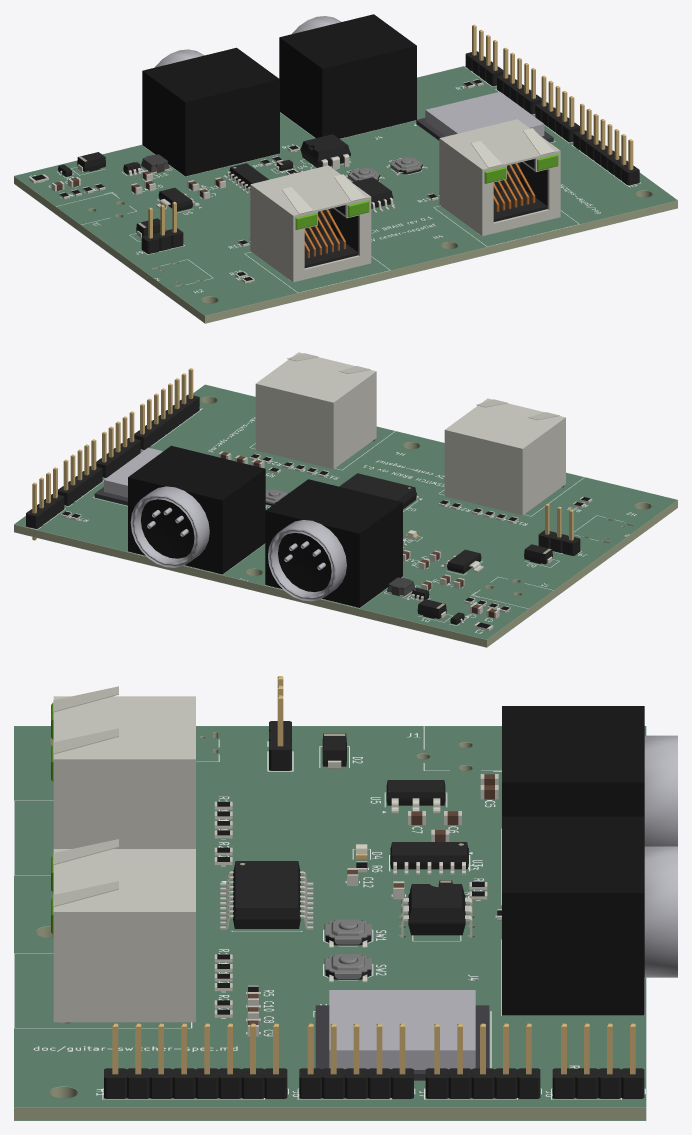
The model's file is gswitch-brain.glb.
3 views of the same model, one above another, from view 1: azimuth 30°, elevation 25°; view 2: azimuth 150°, elevation 25°; view 3: azimuth 270°, elevation 25° (orthographic). The views are drawn at different scales.
Visible parts, largest first — view 1: =>[0:1:1:57], =>[0:1:1:55], DIN5_SDS50J (Shell) (×2), =>[0:1:1:13] (×2), =>[0:1:1:45] (×2), ESP32_WROOM1U (Shell), =>[0:1:1:47], =>[0:1:1:54], =>[0:1:1:23], =>[0:1:1:43], =>[0:1:1:49], =>[0:1:1:19] (+5 smaller); view 2: =>[0:1:1:57], =>[0:1:1:55], =>[0:1:1:13] (×2), DIN5_SDS50J (Shell) (×2), DIN5_SDS50J (Face) (×4), =>[0:1:1:45] (×2), =>[0:1:1:47], =>[0:1:1:54], =>[0:1:1:43], =>[0:1:1:19], =>[0:1:1:49], ESP32_WROOM1U (Shell) (+3 smaller); view 3: =>[0:1:1:57], =>[0:1:1:55], =>[0:1:1:13] (×2), DIN5_SDS50J (Shell) (×2), ESP32_WROOM1U (Shell) (×2), =>[0:1:1:45] (×2), DIN5_SDS50J (Face) (×2), =>[0:1:1:47], =>[0:1:1:19], =>[0:1:1:54], =>[0:1:1:43], =>[0:1:1:23] (+5 smaller).
Boxes of the visible parts, left/top/right/bottom form: =>[0:1:1:57]: left=14, top=67, right=677, bottom=323; =>[0:1:1:55]: left=14, top=66, right=677, bottom=315; DIN5_SDS50J (Shell) (×2): left=142, top=14, right=416, bottom=176; =>[0:1:1:13] (×2): left=250, top=119, right=560, bottom=282; =>[0:1:1:45] (×2): left=497, top=47, right=579, bottom=142; ESP32_WROOM1U (Shell): left=425, top=91, right=544, bottom=136; =>[0:1:1:47]: left=573, top=103, right=639, bottom=185; =>[0:1:1:54]: left=29, top=66, right=640, bottom=293; =>[0:1:1:23]: left=300, top=134, right=350, bottom=169; =>[0:1:1:43]: left=465, top=24, right=503, bottom=86; =>[0:1:1:49]: left=141, top=201, right=183, bottom=253; =>[0:1:1:19]: left=352, top=177, right=395, bottom=212; =>[0:1:1:57]: left=14, top=385, right=677, bottom=647; =>[0:1:1:55]: left=14, top=384, right=677, bottom=639; =>[0:1:1:13] (×2): left=255, top=352, right=565, bottom=515; DIN5_SDS50J (Shell) (×2): left=128, top=445, right=402, bottom=607; DIN5_SDS50J (Face) (×4): left=130, top=486, right=346, bottom=601; =>[0:1:1:45] (×2): left=58, top=411, right=140, bottom=505; =>[0:1:1:47]: left=134, top=368, right=199, bottom=449; =>[0:1:1:54]: left=31, top=407, right=636, bottom=633; =>[0:1:1:43]: left=26, top=467, right=64, bottom=540; =>[0:1:1:19]: left=339, top=473, right=418, bottom=508; =>[0:1:1:49]: left=538, top=503, right=580, bottom=555; ESP32_WROOM1U (Shell): left=104, top=447, right=162, bottom=497; =>[0:1:1:57]: left=14, top=727, right=646, bottom=1120; =>[0:1:1:55]: left=14, top=726, right=646, bottom=1107; =>[0:1:1:13] (×2): left=51, top=686, right=195, bottom=1022; DIN5_SDS50J (Shell) (×2): left=502, top=706, right=644, bottom=1015; ESP32_WROOM1U (Shell) (×2): left=315, top=990, right=489, bottom=1080; =>[0:1:1:45] (×2): left=299, top=1023, right=540, bottom=1098; DIN5_SDS50J (Face) (×2): left=644, top=735, right=677, bottom=977; =>[0:1:1:47]: left=104, top=1023, right=287, bottom=1098; =>[0:1:1:19]: left=220, top=861, right=313, bottom=929; =>[0:1:1:54]: left=14, top=725, right=645, bottom=1099; =>[0:1:1:43]: left=552, top=1023, right=644, bottom=1098; =>[0:1:1:23]: left=401, top=884, right=472, bottom=937.
Bounding box in the file's own units: 0.1 × 0.0188 × 0.0735.
